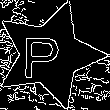P_N: (30, 29, 69, 80)
